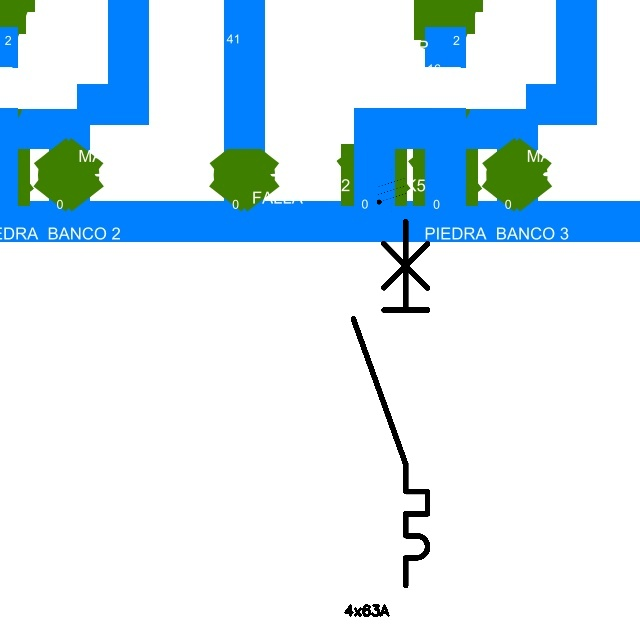interruptor_termomagnetico: (344, 212, 437, 595)
